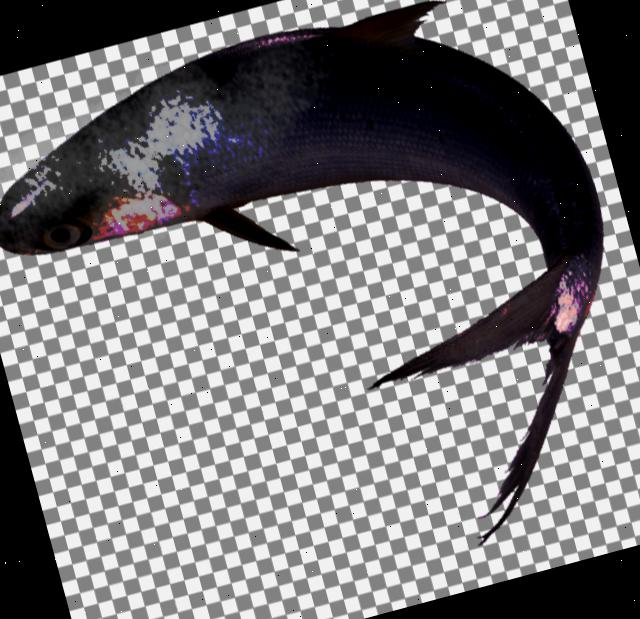Fungal Disease -Saprolegniasis-: (0, 1, 602, 537), (0, 3, 602, 537)
